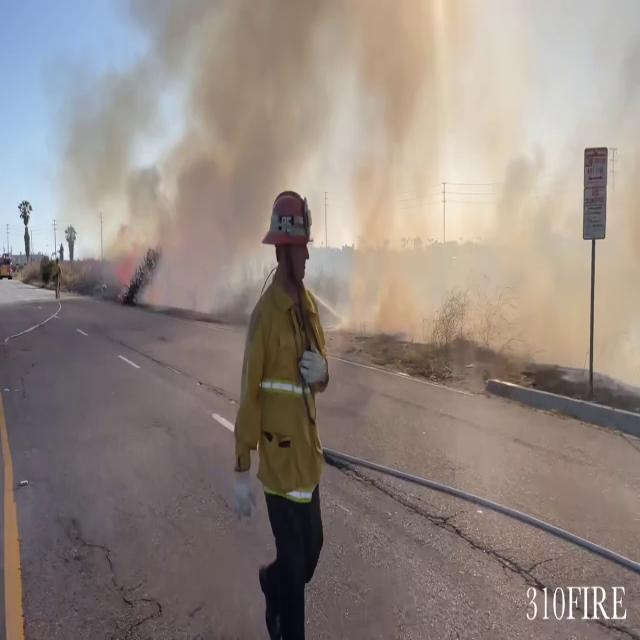Smoke: (332, 1, 570, 351), (43, 0, 328, 283)
